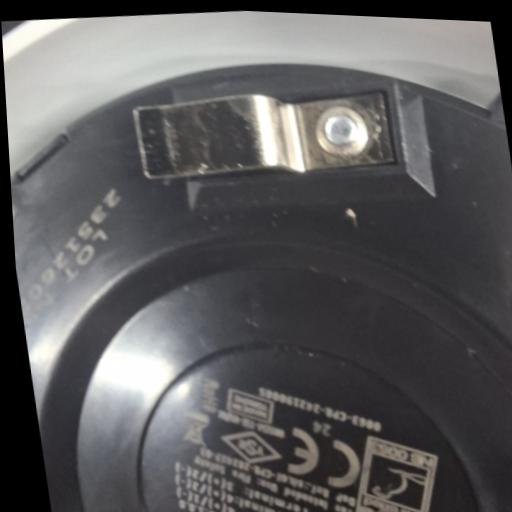yaysiz: (132, 73, 405, 196)
